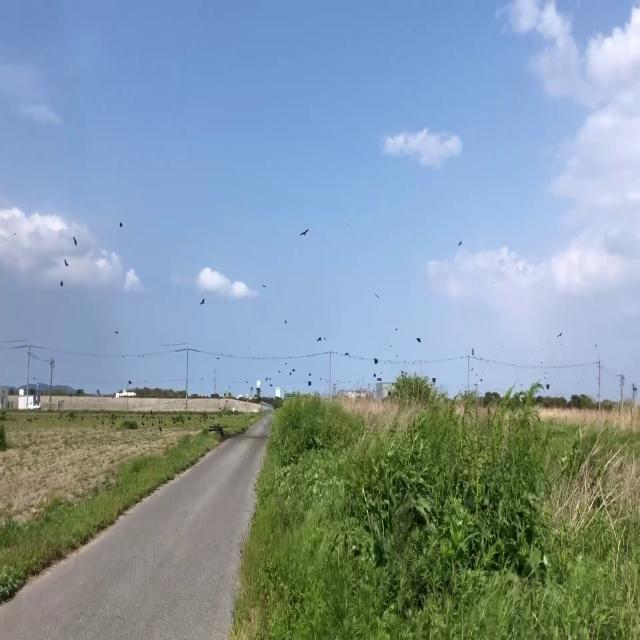bird: (301, 223, 309, 240), (316, 331, 322, 344), (416, 332, 422, 344), (73, 231, 77, 248), (64, 254, 68, 270)
